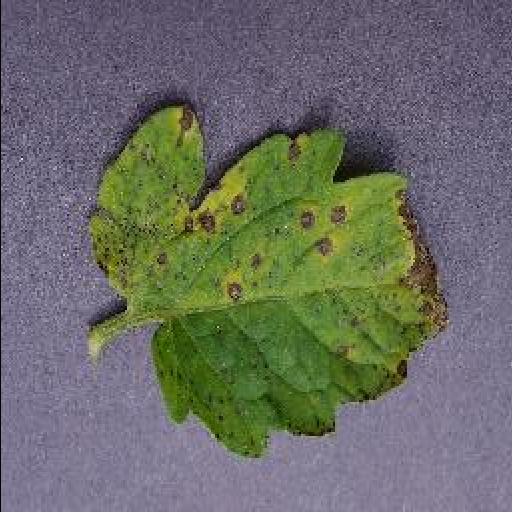disease_tomato: (88, 100, 452, 458)
